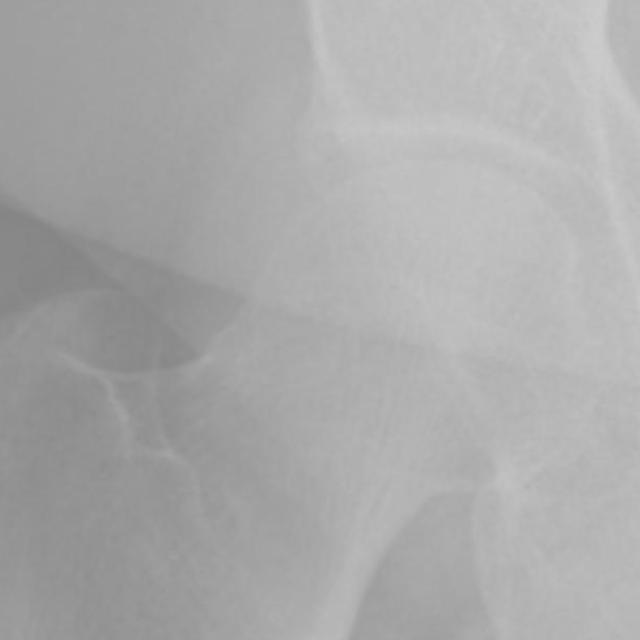Fitted_femural_head: (348, 161, 432, 348)
